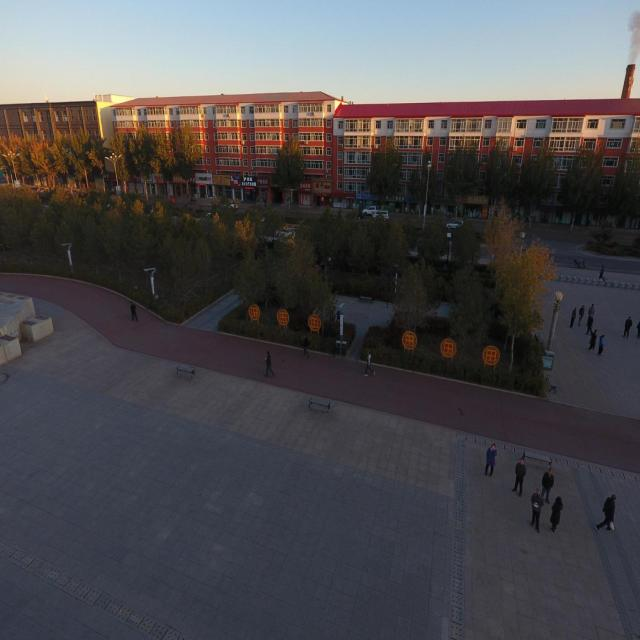car: (446, 219, 464, 229)
person: (594, 494, 616, 532), (510, 456, 526, 496), (530, 488, 543, 532), (548, 496, 562, 532), (541, 466, 554, 504), (484, 443, 497, 476), (364, 351, 376, 376), (264, 350, 274, 378), (588, 328, 598, 350), (623, 316, 632, 338), (597, 334, 605, 356), (302, 336, 310, 357), (130, 301, 138, 321), (578, 304, 585, 326), (569, 307, 576, 328), (598, 264, 605, 280), (636, 321, 639, 338)
tree: (482, 203, 558, 372), (365, 139, 402, 210), (271, 137, 305, 206)
